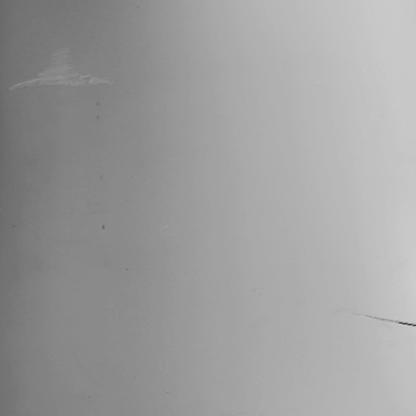sunshang: (2, 42, 115, 89), (356, 311, 416, 330)
